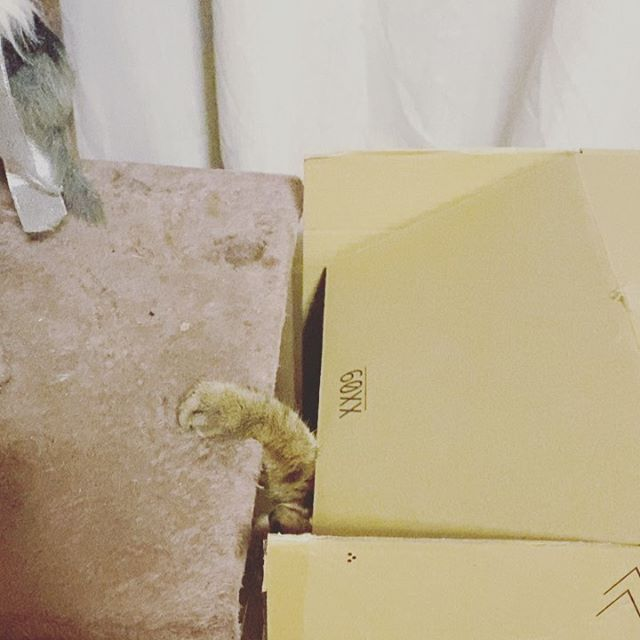animal: (161, 374, 331, 561)
